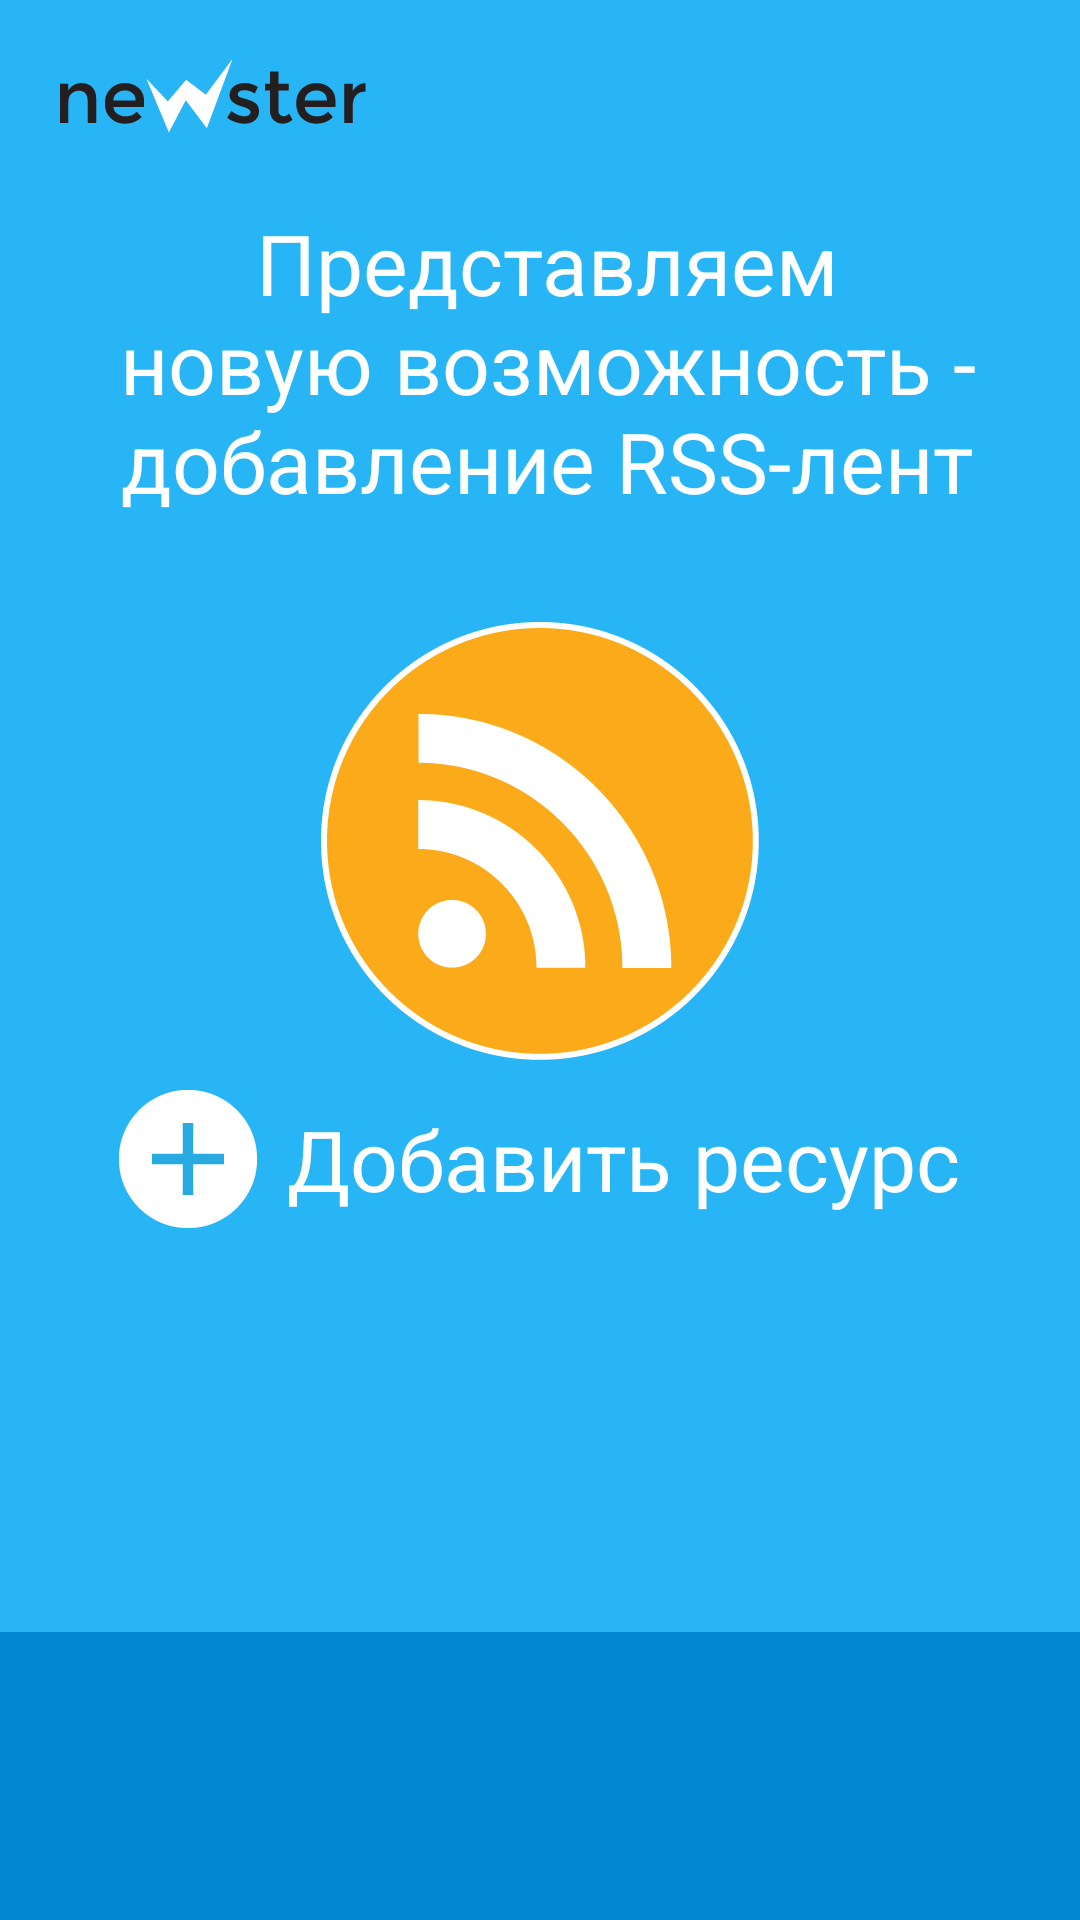

Icons on this 1080 x 1920 Android screen, each with its box as (x1, y1, x2, y2):
phone land plusbtn: (119, 1090, 257, 1228)
